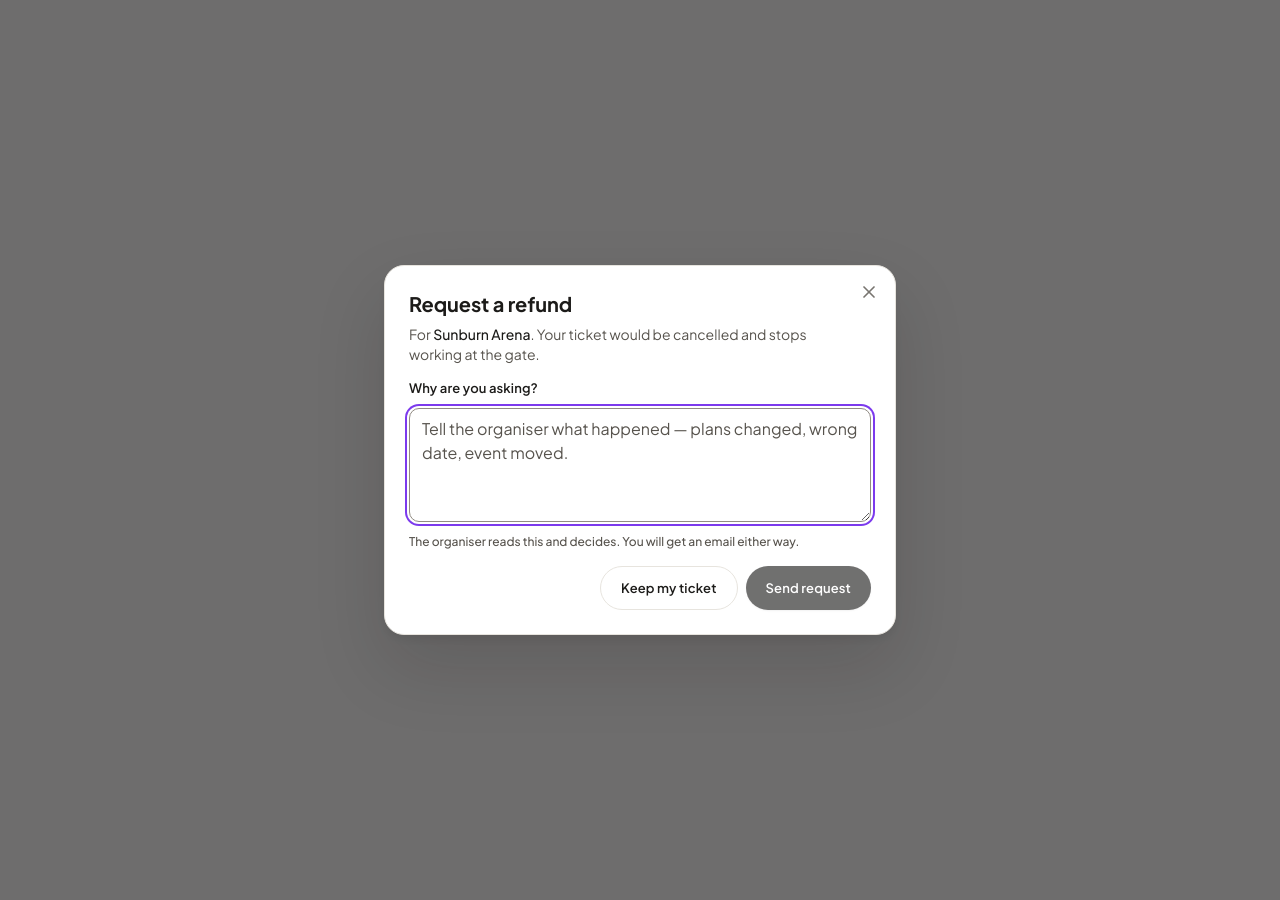
RefundRequestDialog › explains an uncharged booking
Step 1. Type "Plans changed entirely" into the text box labelled "Why are you asking?" → (640, 465), box [409,408,871,522]
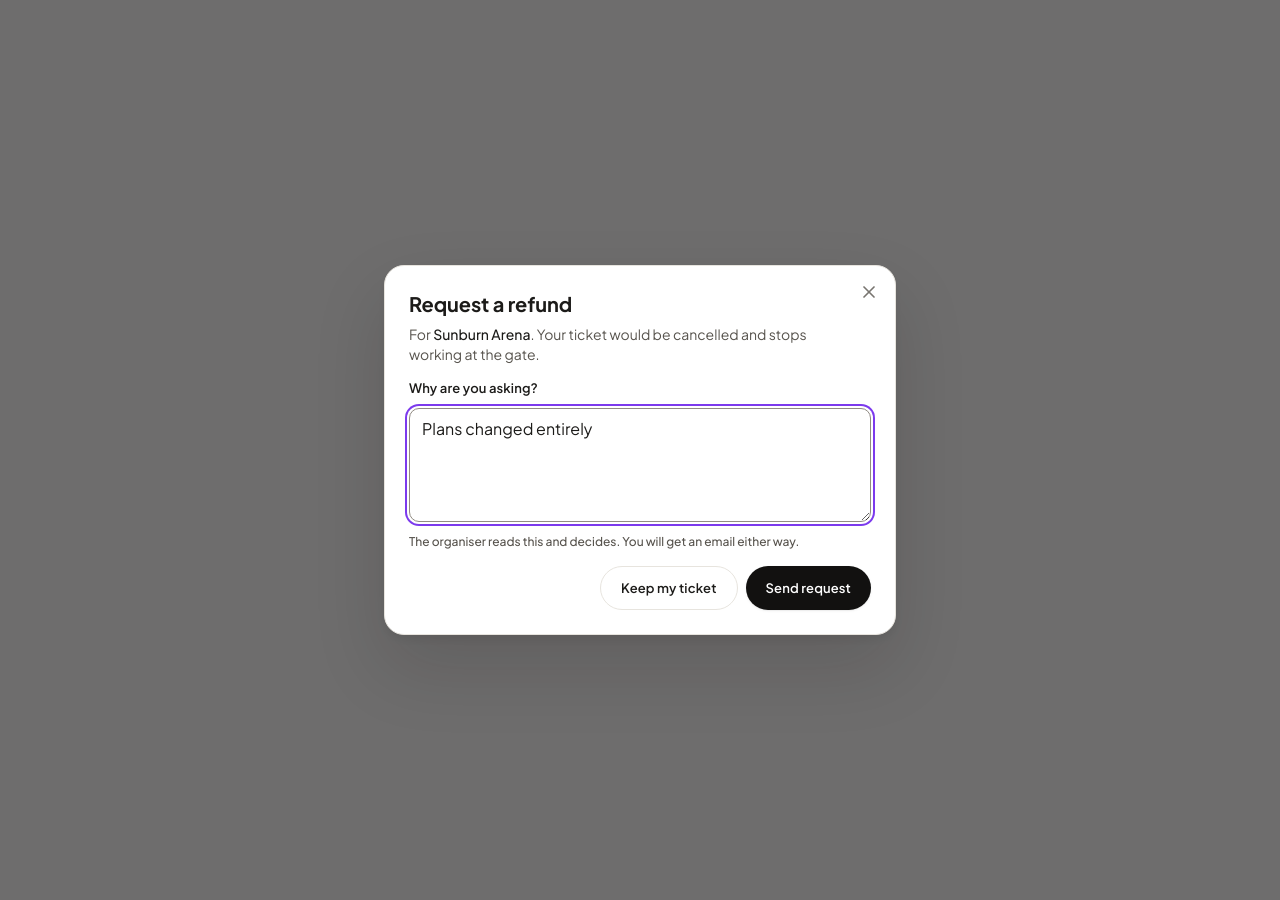
Step 2. Click the button "Send request" → (808, 588), box [746,566,871,610]
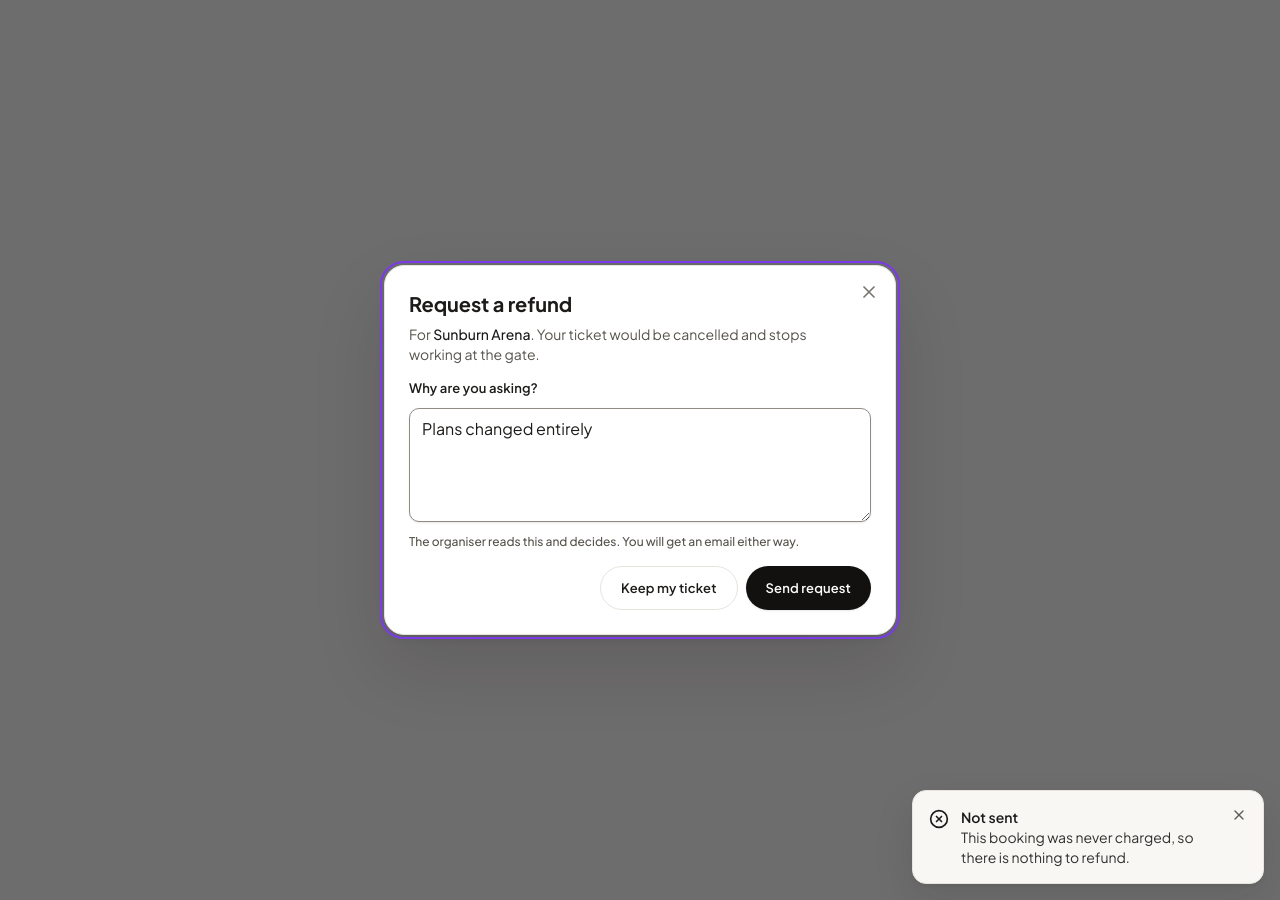
Expected: the text "never charged" is shown, [961,828,1194,866]
